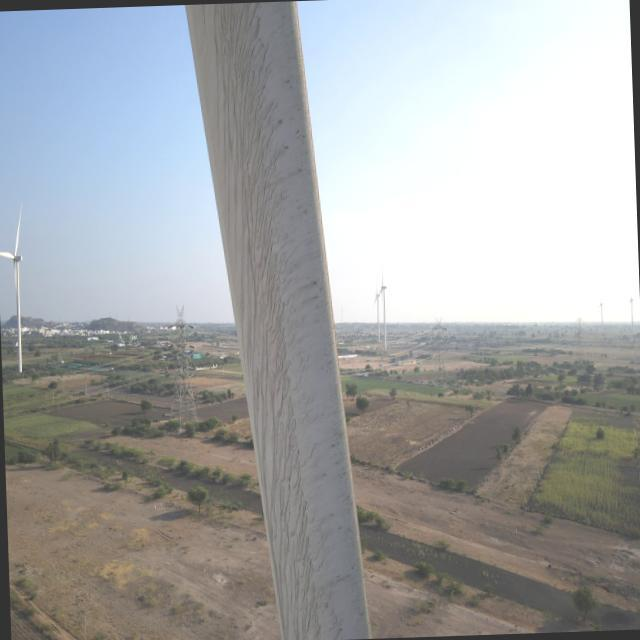Dirt: (188, 4, 370, 640)
